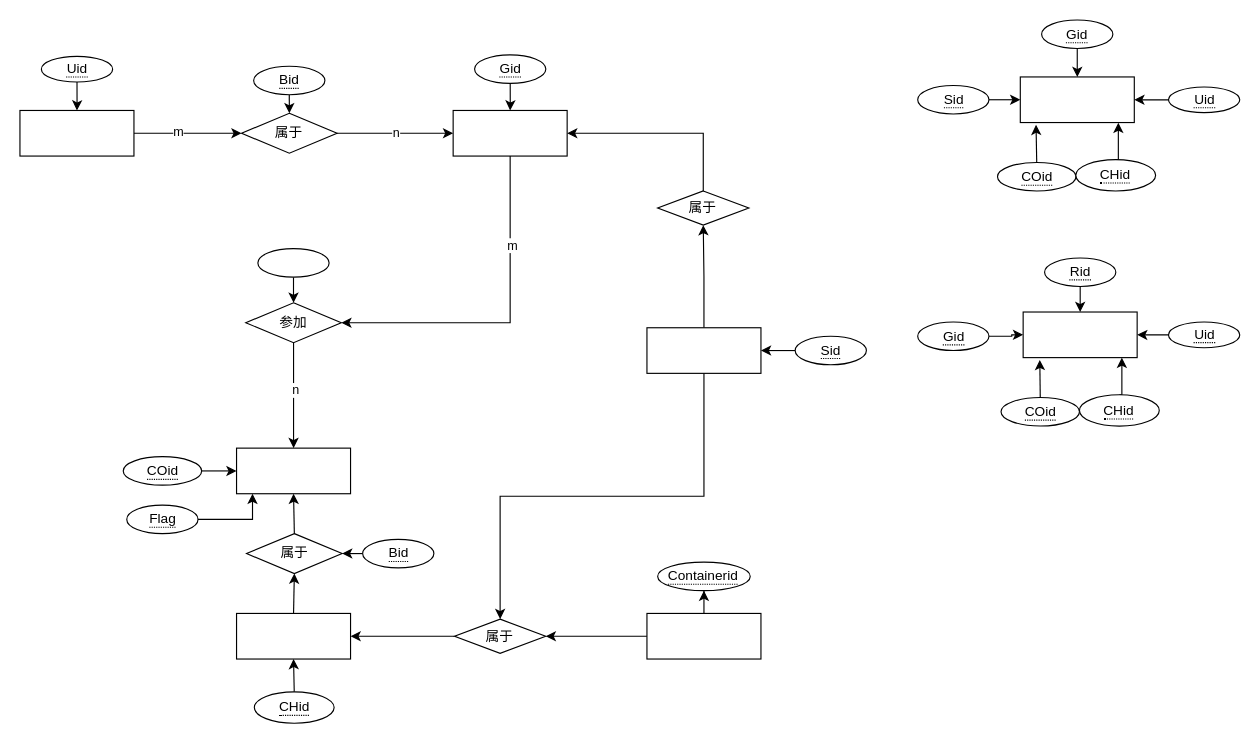
This 1260x743 diagram has some shape labels left out. The shapes that lost their labels are listed below. From the top down, each one's box as (x1, y1, x2, y2) in pixels, then its label:
(1019, 76, 1134, 123): 分数
(19, 109, 134, 156): 用户
(452, 109, 567, 156): 团队
(257, 247, 329, 277): Jid
(646, 327, 761, 373): 做出题
(1022, 311, 1137, 358): 日志
(235, 447, 351, 494): 比赛
(235, 612, 351, 659): 题目
(646, 612, 761, 659): 容器
